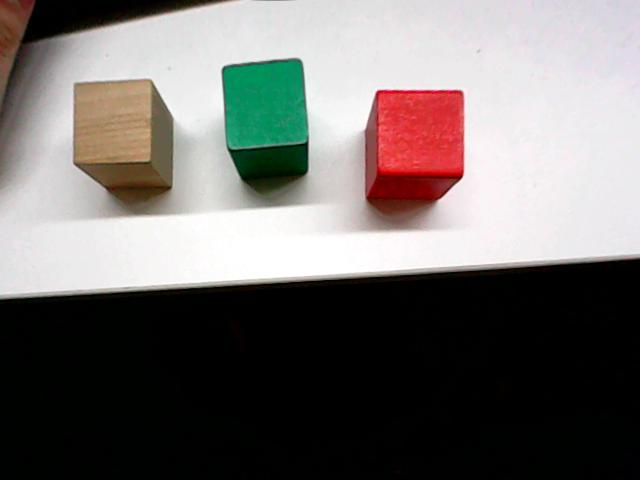green_box: (218, 54, 312, 185)
raw_box: (68, 76, 182, 194)
red_box: (361, 84, 468, 205)
